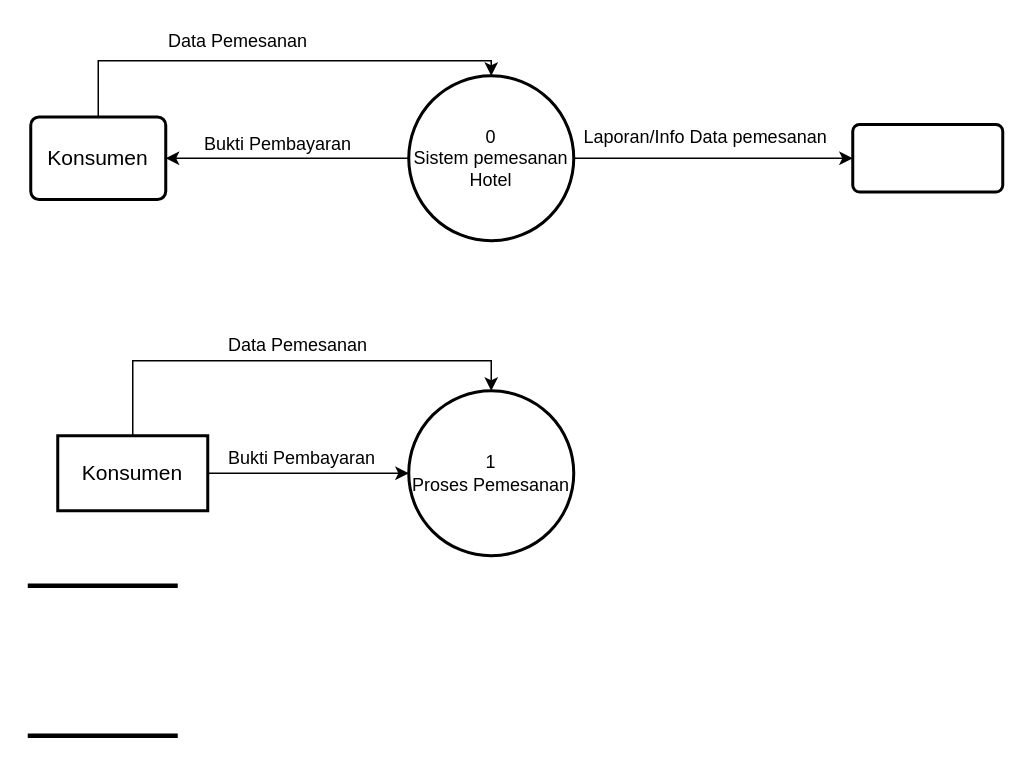
Some shapes in this 1031 by 764 pixel diagram are drawn without their labels. The shapes that lost their labels are listed below. From the top down, each one's centre as x and y in pixels, then its label:
point (927, 157): Owner/Pemilik
point (102, 660): Data Pesanan
